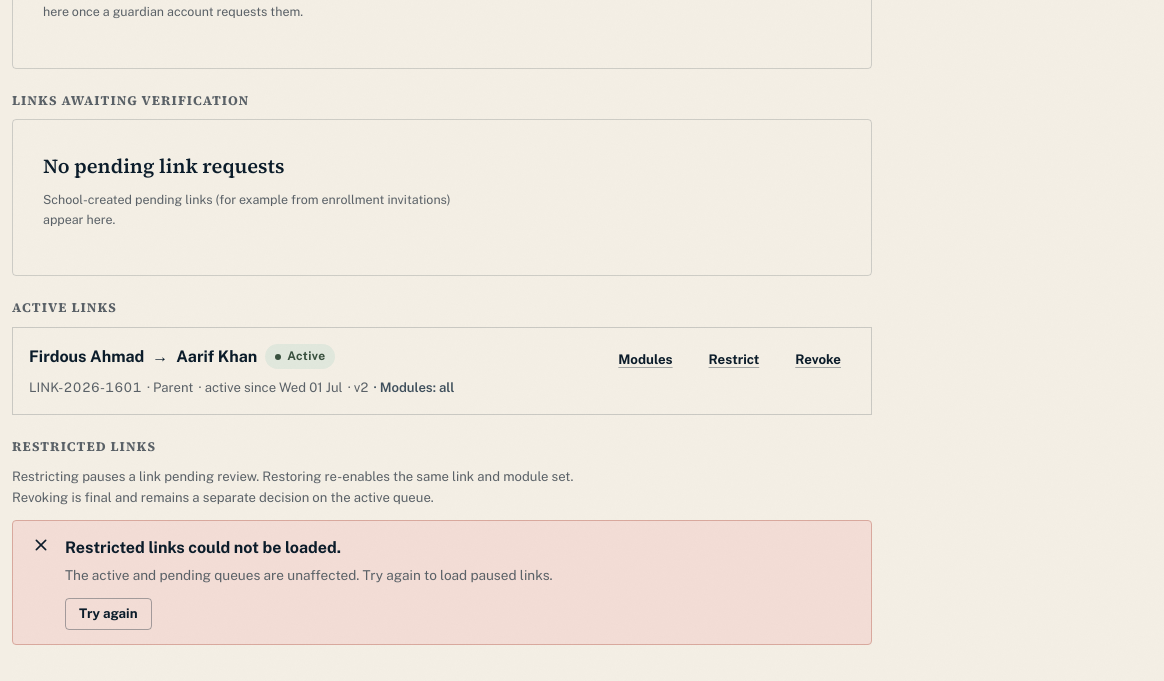
Scenario: link restrict and restore › keeps the active queue when the restricted queue fails, then retries
This screenshot has width=1164, height=681.
(page scrolled)
Expected: the button "Restrict" is shown, [695,344,773,376]
Expected: the text "Restricted links could not be loaded." is shown, [65,538,341,557]
Click the button "Try again": (108, 614) [65,598,152,630]
(page scrolled)
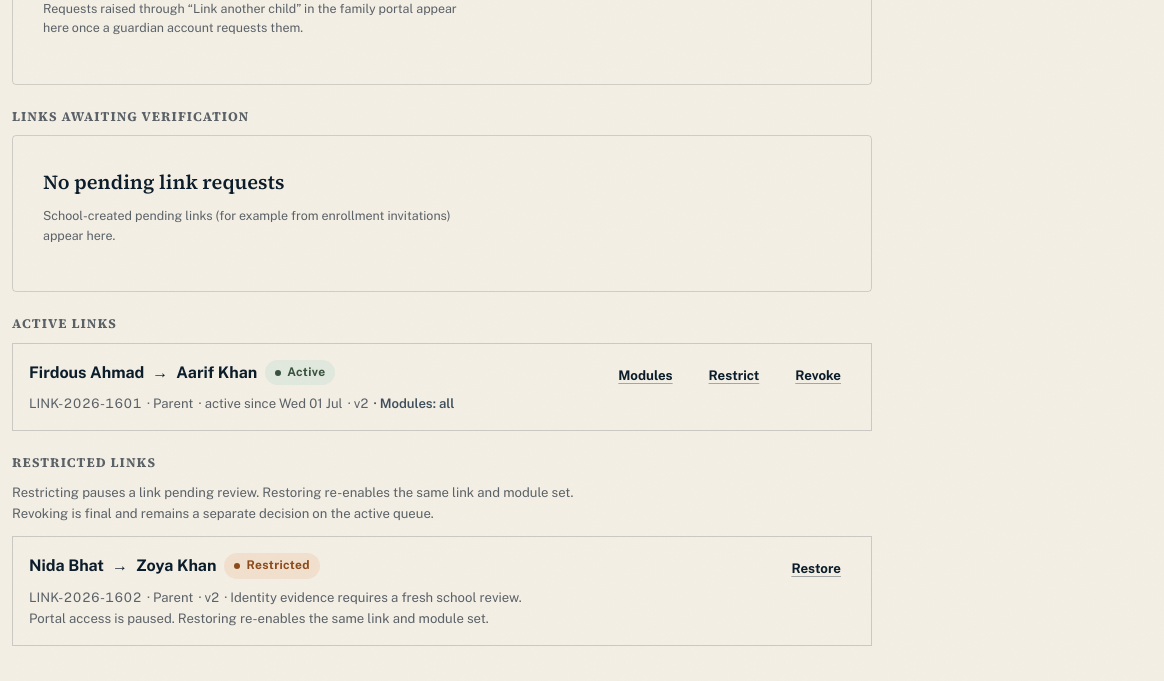
Expected: the button "Restore" is shown, [777,553,855,585]
Expected: the text "Restricted links could not be loaded." is gone
